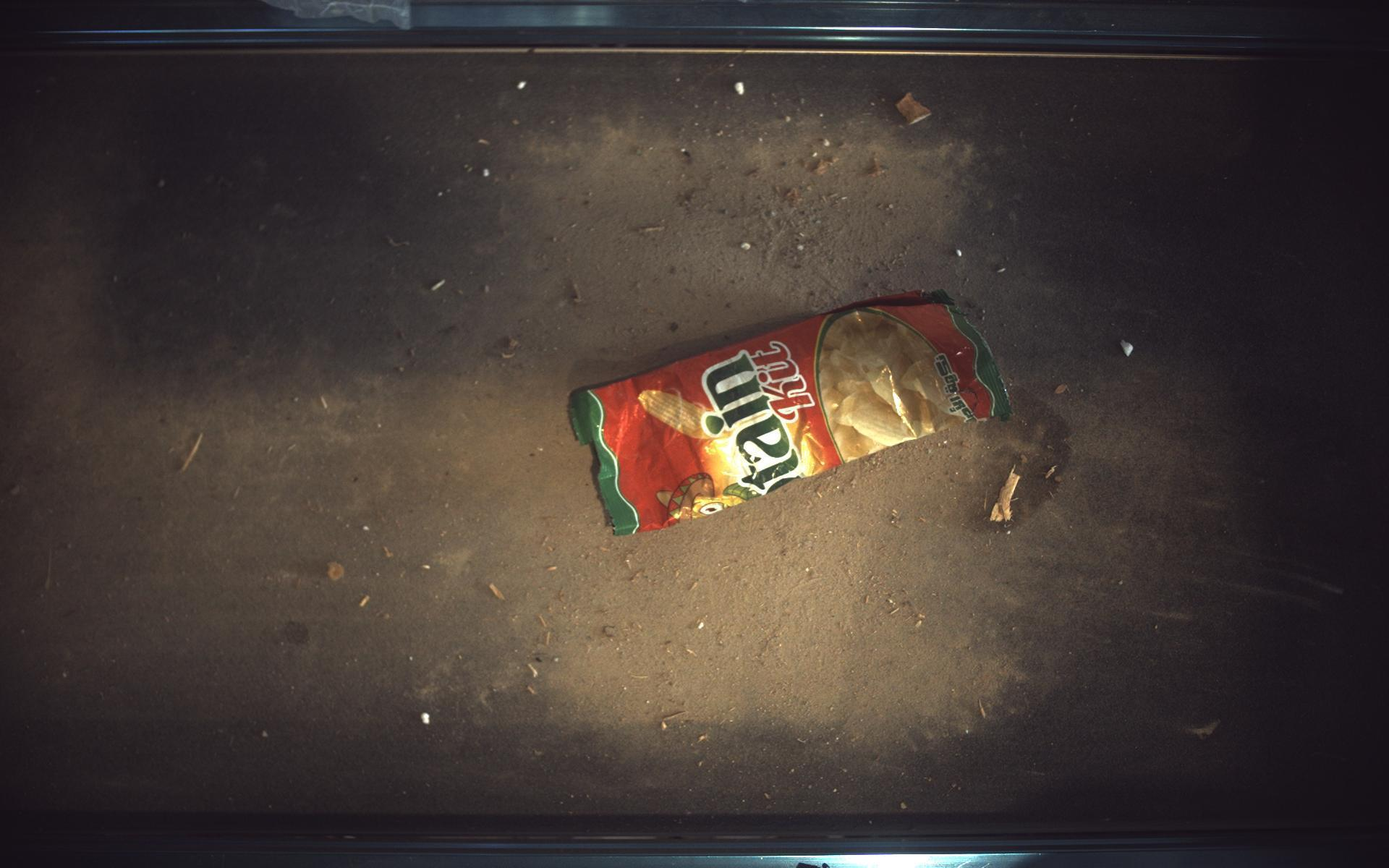general_w: (570, 290, 1014, 535)
